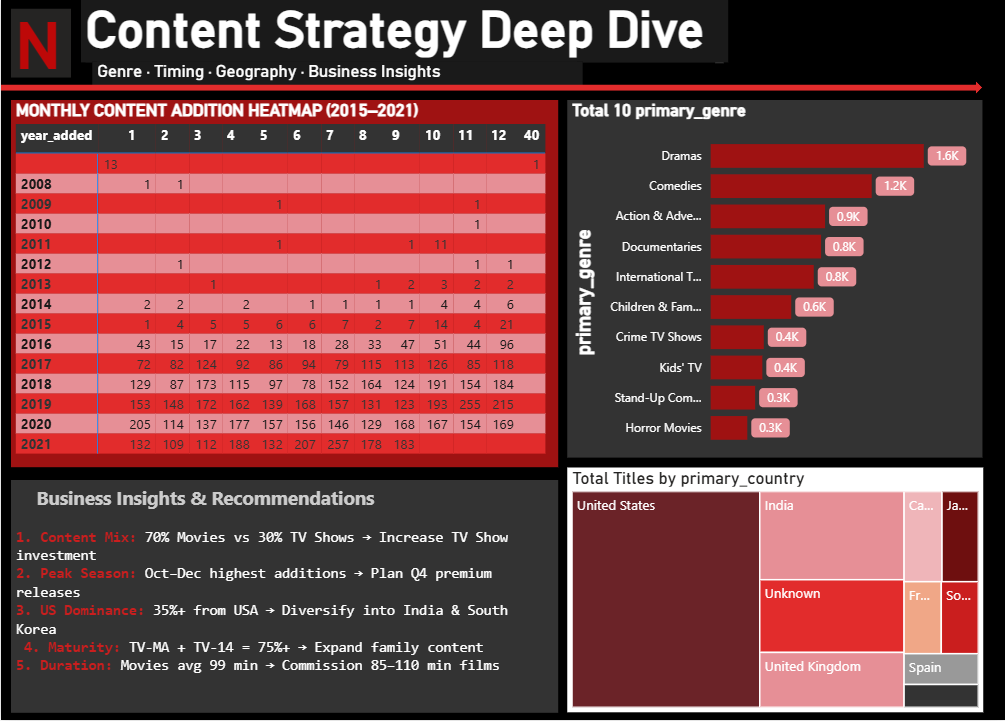

This screenshot's page, from the dashboard's own definition file:
{"tool":"powerbi","page":{"name":"Content_Strategy","canvas":[1004,720],"ordinal":1},"visuals":[{"type":"pivotTable","title":"MONTHLY CONTENT ADDITION HEATMAP (2015–2021) ","fields":{"Rows":["netflix_cleaned.year_added"],"Columns":["netflix_cleaned.month_added"],"Values":["netflix_cleaned.Total Titles"]},"box":[10,100,547.5,367.5],"z":0},{"type":"textbox","title":"Content Strategy Deep Dive","box":[80,0,647.1,68.6],"z":1000},{"type":"textbox","title":"N","box":[10,8.6,60,68.6],"z":2000},{"type":"textbox","title":"Genre · Timing · Geography · Business Insights","box":[91.4,61.4,490,32.9],"z":3000},{"type":"shape","box":[0,81.2,981.2,12.5],"z":4000},{"type":"clusteredBarChart","title":"Total 10 primary_genre","fields":{"Category":["netflix_cleaned.primary_genre"],"Y":["netflix_cleaned.Total Titles"]},"box":[566.2,100,415,357.5],"z":5000},{"type":"treemap","fields":{"Group":["netflix_cleaned.primary_country"],"Values":["netflix_cleaned.Total Titles"]},"box":[566.2,467.5,416.2,245],"z":6000},{"type":"textbox","box":[10,480,547.5,232.5],"z":7000}]}

Visuals, with their boxes in screenshot pixels (x1, y1, x2, y2), scaled from the page's 1004x720 canvas onto the 1005x721 screenshot:
"MONTHLY CONTENT ADDITION HEATMAP (2015–2021) " pivotTable: 10 100 558 468
"Content Strategy Deep Dive" textbox: 80 0 728 69
"N" textbox: 10 9 70 77
"Genre · Timing · Geography · Business Insights" textbox: 91 61 582 94
shape: 0 81 982 94
"Total 10 primary_genre" clusteredBarChart: 567 100 982 458
treemap - netflix_cleaned.primary_country x netflix_cleaned.Total Titles: 567 468 983 713
textbox: 10 481 558 713
